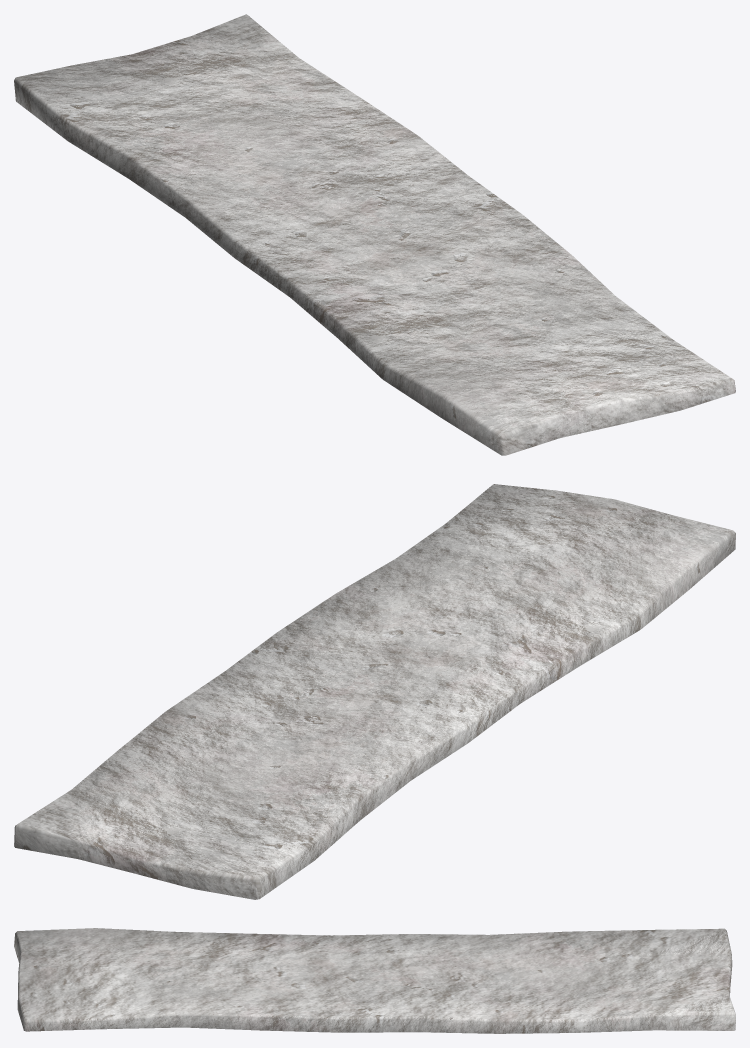
File: tile1_LOD0.FBX
3 views of the same model, one above another, from view 1: azimuth 30°, elevation 25°; view 2: azimuth 150°, elevation 25°; view 3: azimuth 270°, elevation 25° (orthographic). The views are drawn at different scales.
Visible parts, largest first — view 1: tile1_LOD0; view 2: tile1_LOD0; view 3: tile1_LOD0.
Boxes of the visible parts, bbox=[...] form: tile1_LOD0: bbox=[14, 14, 735, 455]; tile1_LOD0: bbox=[14, 484, 735, 899]; tile1_LOD0: bbox=[14, 928, 735, 1033].
Bounding box in the file's own units: 52.95 × 4.79 × 174.
